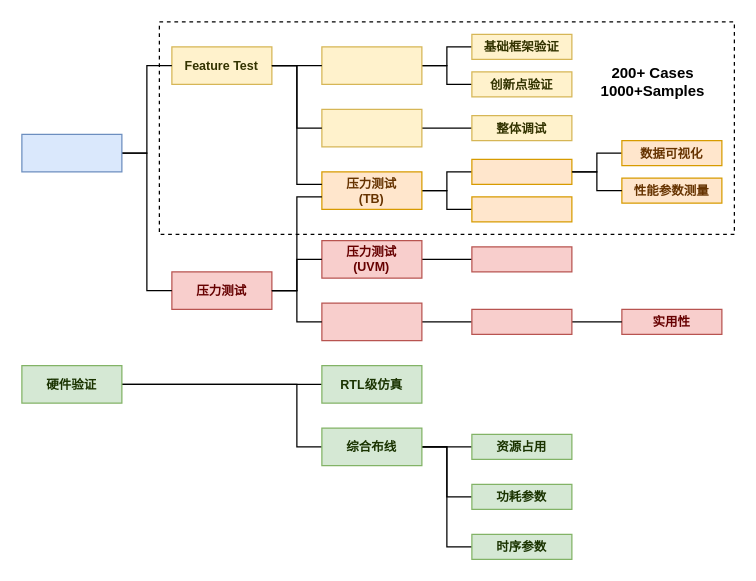
The diagram is 756 pixels wide and 581 high, and some of its shapes have lost their labels. Here are the shapes that lost their labels. From the top down, the centre of each, then its label:
the point at 371,65: 功能/机制验证
the point at 371,127: 整体验证
the point at 71,152: 行为级仿真
the point at 521,171: 数据统计
the point at 521,209: 对拍（粗略）
the point at 521,259: 对拍（严格）
the point at 371,321: 应用模拟(Java+TB)
the point at 521,321: 文件传输
